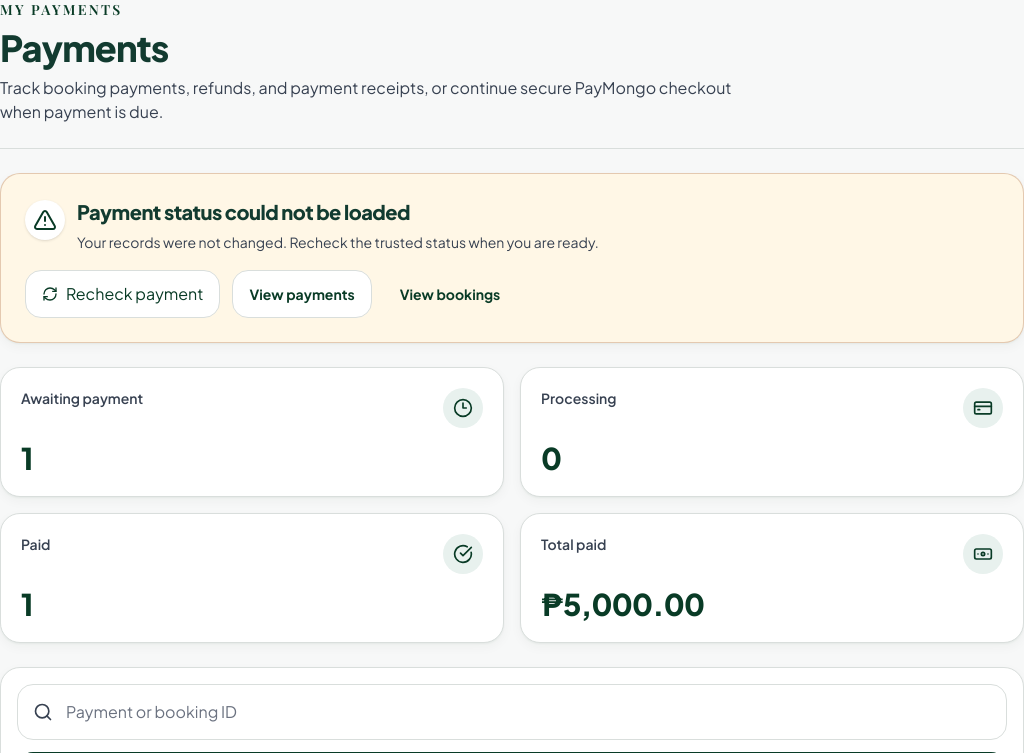
Test: customer payments › retains return context after a transient load error so recheck can recover
Click the button "Recheck payment" at (123, 294), box x1=25 y1=270 x2=220 y2=318
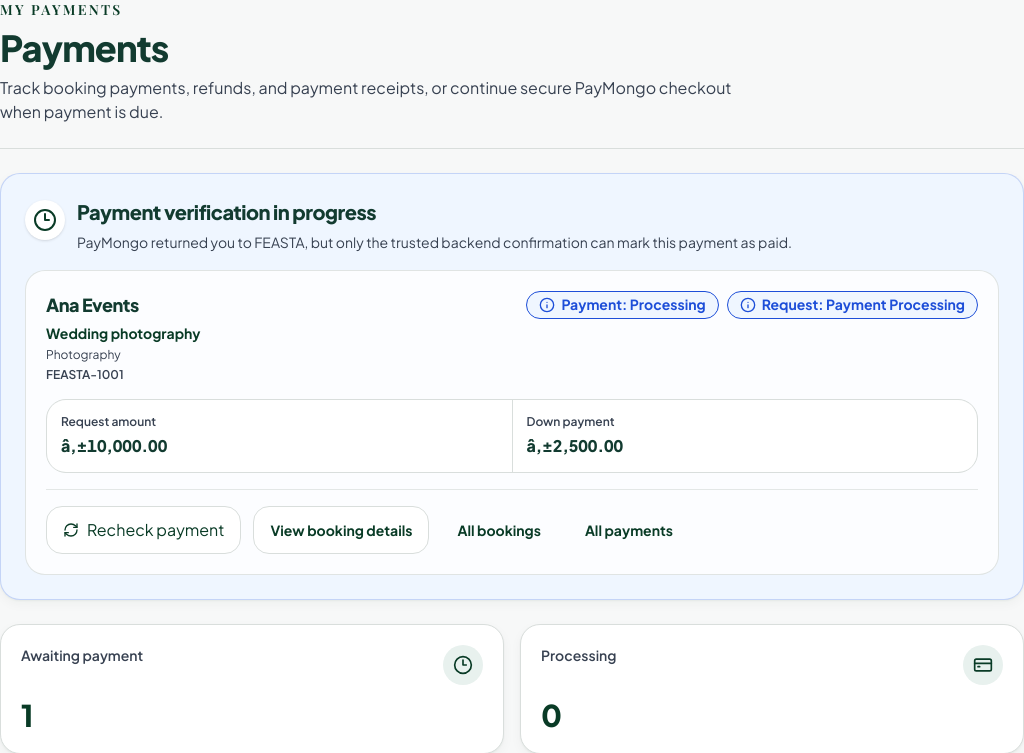
Result: the heading "Payment verification in progress" is shown at x1=77 y1=199 x2=376 y2=224
